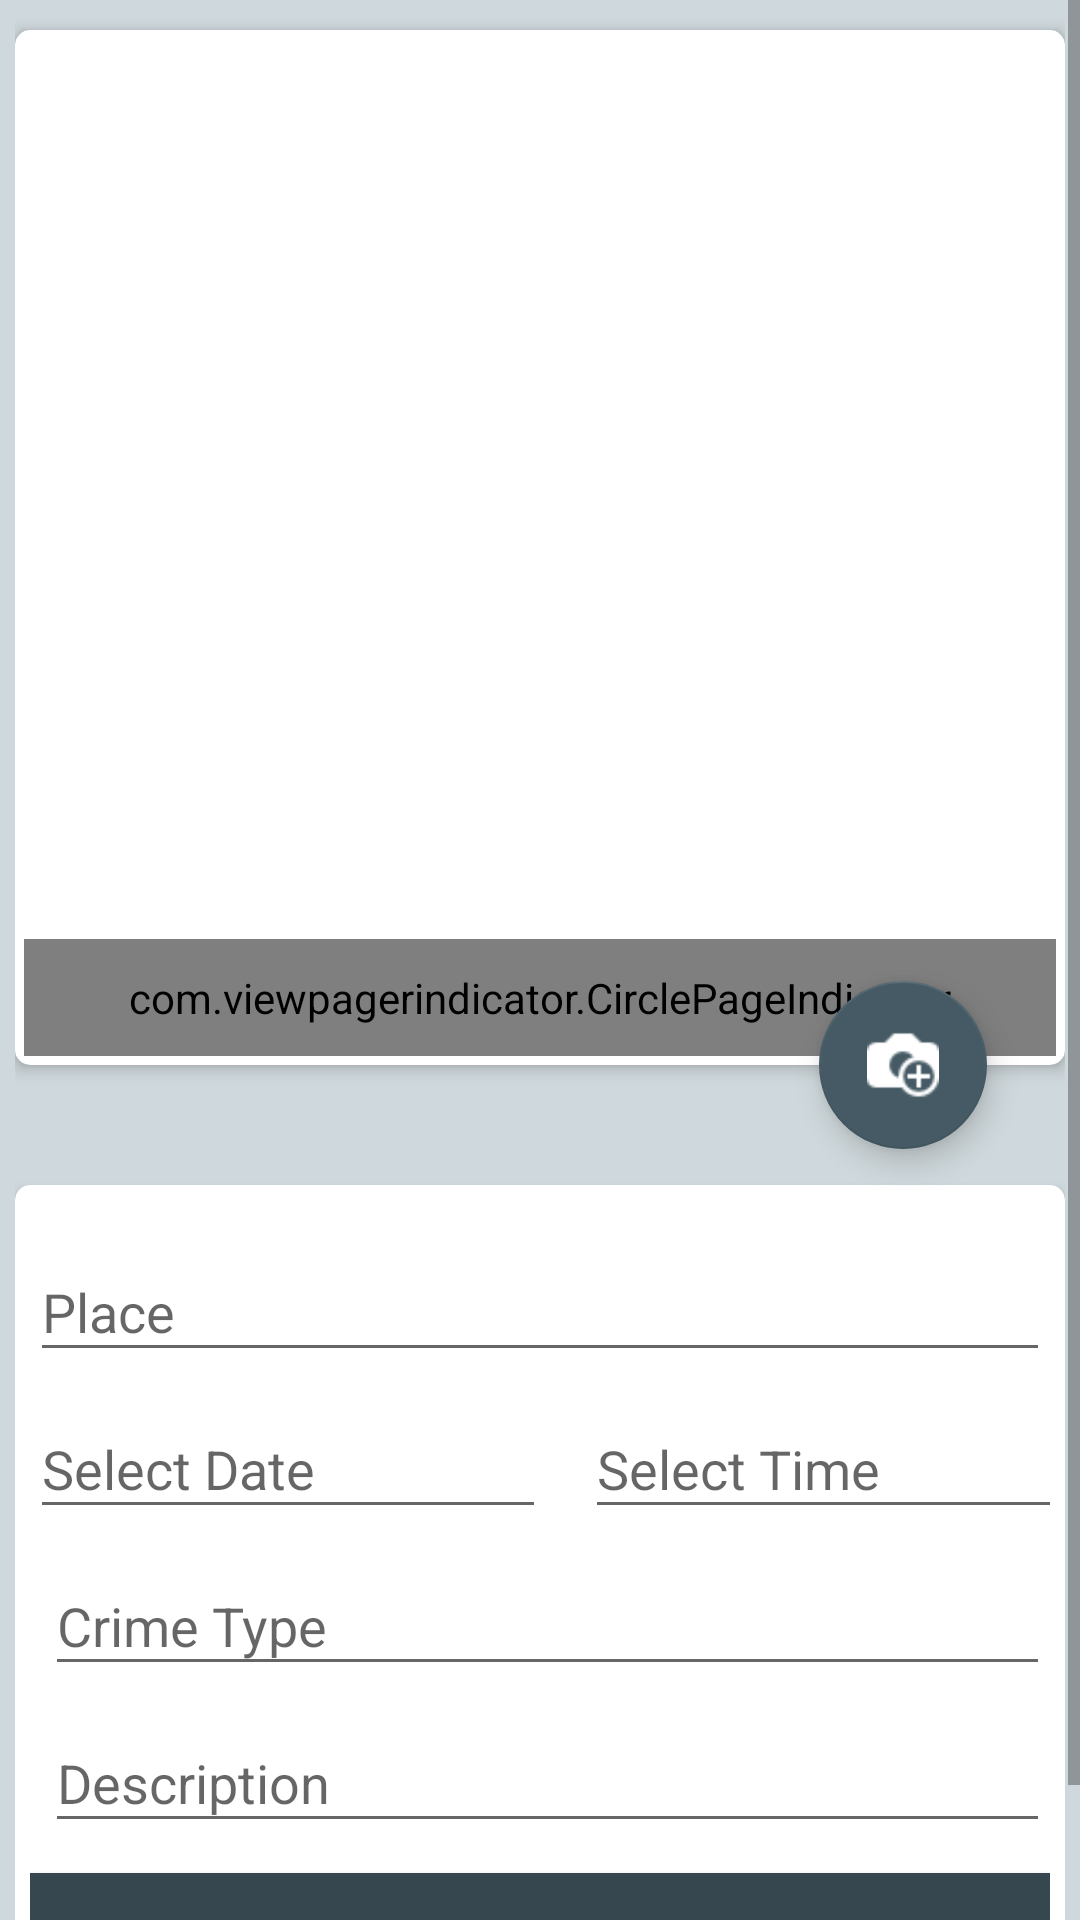

Screen size 1080×1920. Icon name, then its center in pixels as (x=x, y=y):
add camera: (x=903, y=1065)
